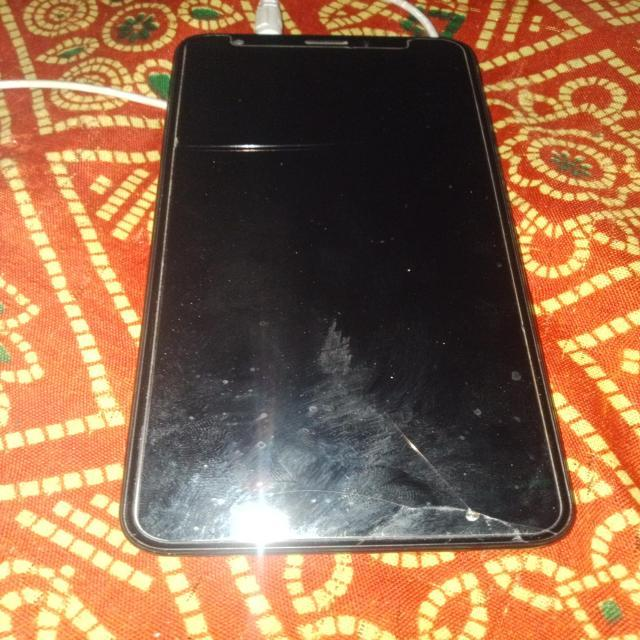phone: (75, 21, 612, 564)
